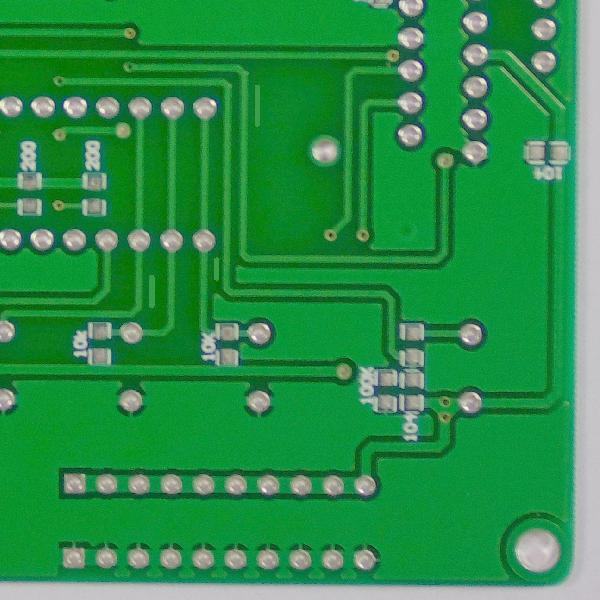spurious_copper: (244, 82, 272, 131), (139, 271, 164, 314), (209, 252, 227, 285)
